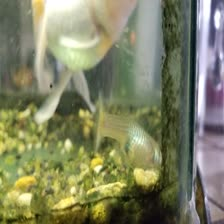Cuezo: (22, 0, 158, 127)
Guppy: (89, 92, 172, 175)
